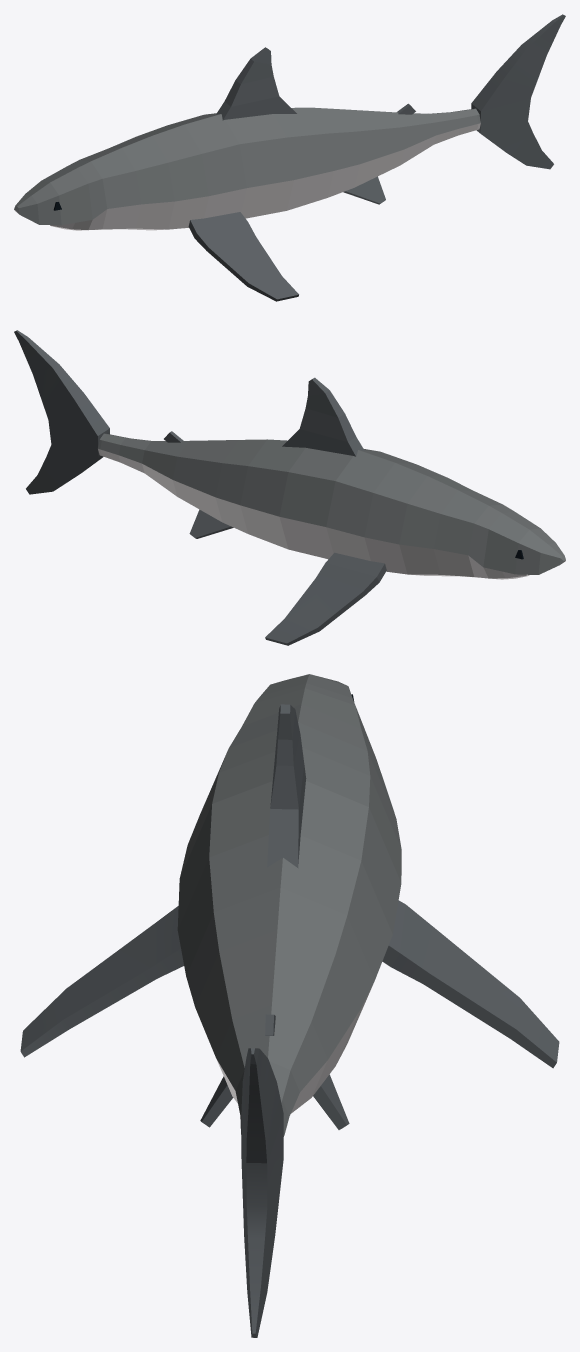
Rendered from SharkAnimation.dae.
3 renders of one model, top to bottom at view 1: azimuth 30°, elevation 25°; view 2: azimuth 150°, elevation 25°; view 3: azimuth 270°, elevation 25°, orthographic. The views are drawn at different scales.
Visible parts, largest first — view 1: Shark_resized_animation_v003; view 2: Shark_resized_animation_v003; view 3: Shark_resized_animation_v003.
Boxes of the visible parts, x1,y1,x2,y2 form: Shark_resized_animation_v003: (14, 14, 565, 301); Shark_resized_animation_v003: (14, 330, 565, 645); Shark_resized_animation_v003: (20, 674, 559, 1337).
Size of the model in its own units: 931 by 320 by 405.
